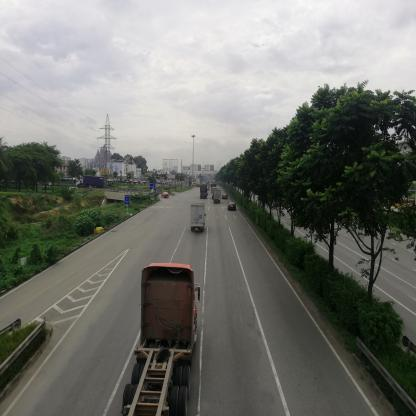car: (228, 203, 238, 214), (163, 193, 170, 199), (222, 195, 229, 200)
container: (123, 264, 201, 416), (77, 176, 106, 190)
truck: (192, 205, 206, 232), (201, 184, 208, 200), (215, 190, 222, 203)
